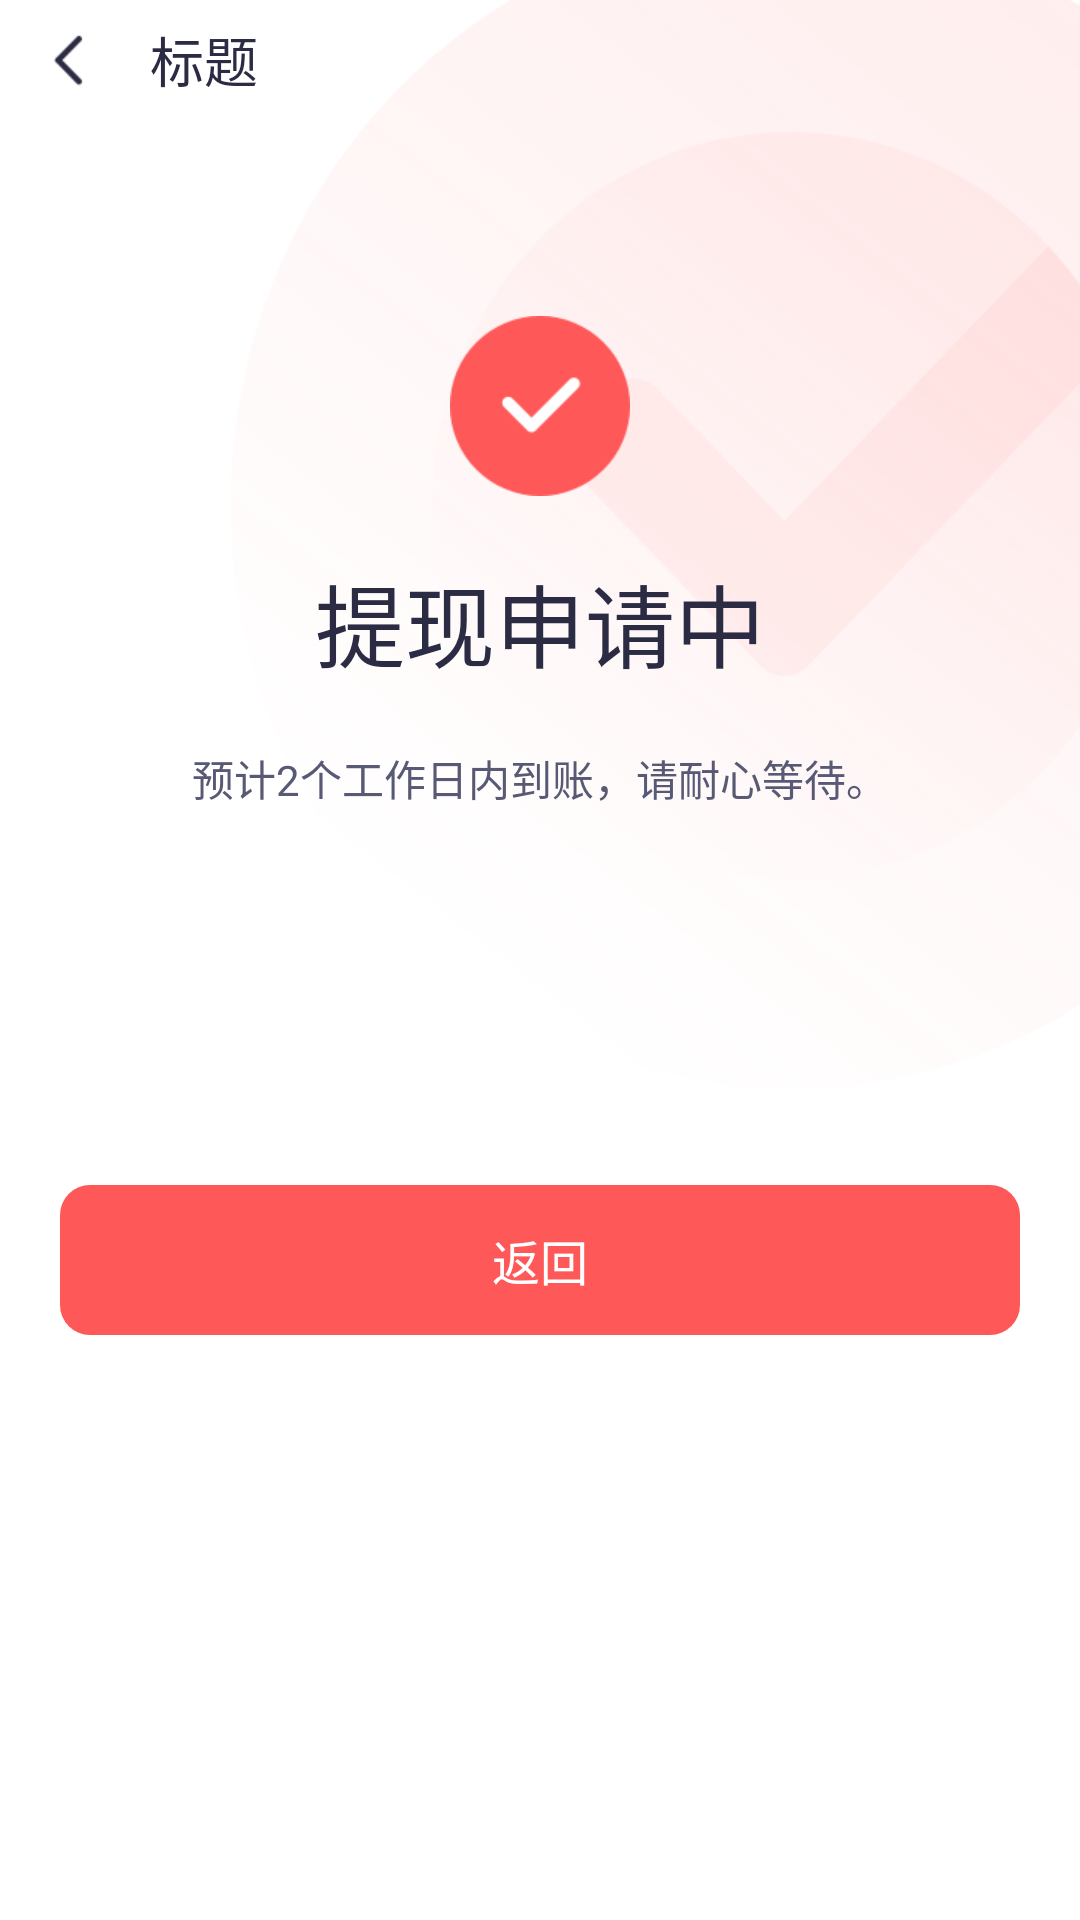

Screen size 1080px x 1920px. Icon name, then its center in pixels as (x,y):
apply: (540,406)
return: (68,60)
